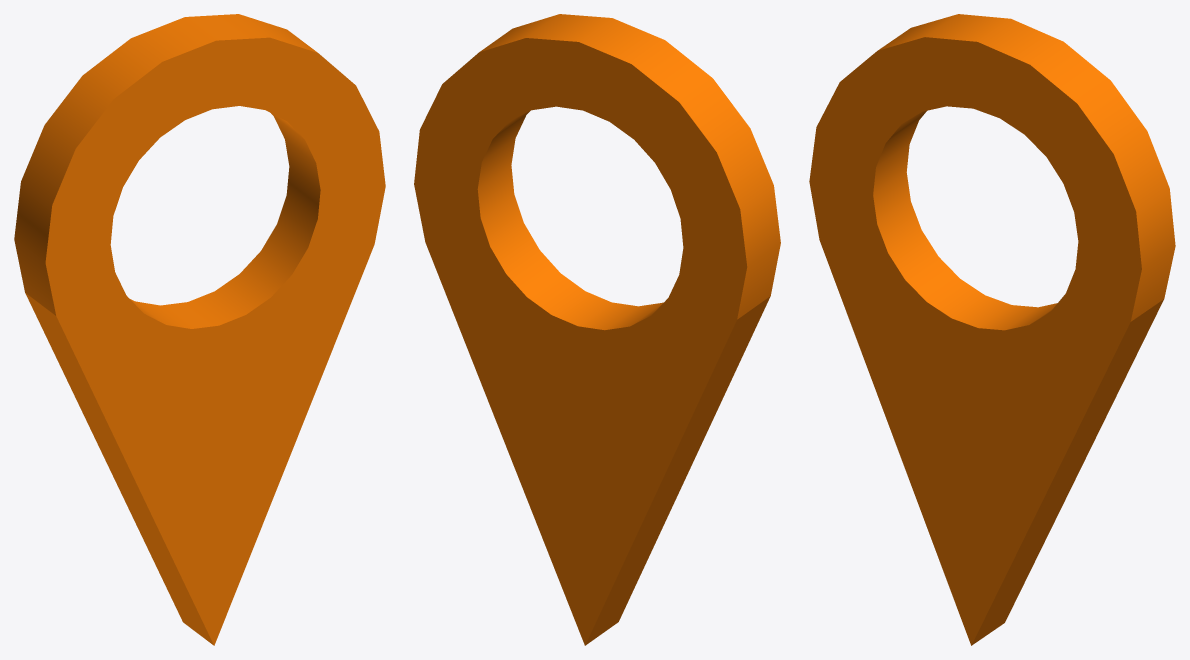
Rendered from marker.gltf.
3 views of the same model, side by side, from view 1: azimuth 30°, elevation 25°; view 2: azimuth 150°, elevation 25°; view 3: azimuth 330°, elevation 25° (orthographic).
Parts seen in each view (by area): view 1: Simple_Template_-_Feet_and_Inches; view 2: Simple_Template_-_Feet_and_Inches; view 3: Simple_Template_-_Feet_and_Inches.
Boxes of the visible parts, <box> form: Simple_Template_-_Feet_and_Inches: <box>14,14,385,645</box>; Simple_Template_-_Feet_and_Inches: <box>414,14,780,645</box>; Simple_Template_-_Feet_and_Inches: <box>809,14,1175,645</box>.
Size of the model in its own units: 6.49 by 11.09 by 1.22.
